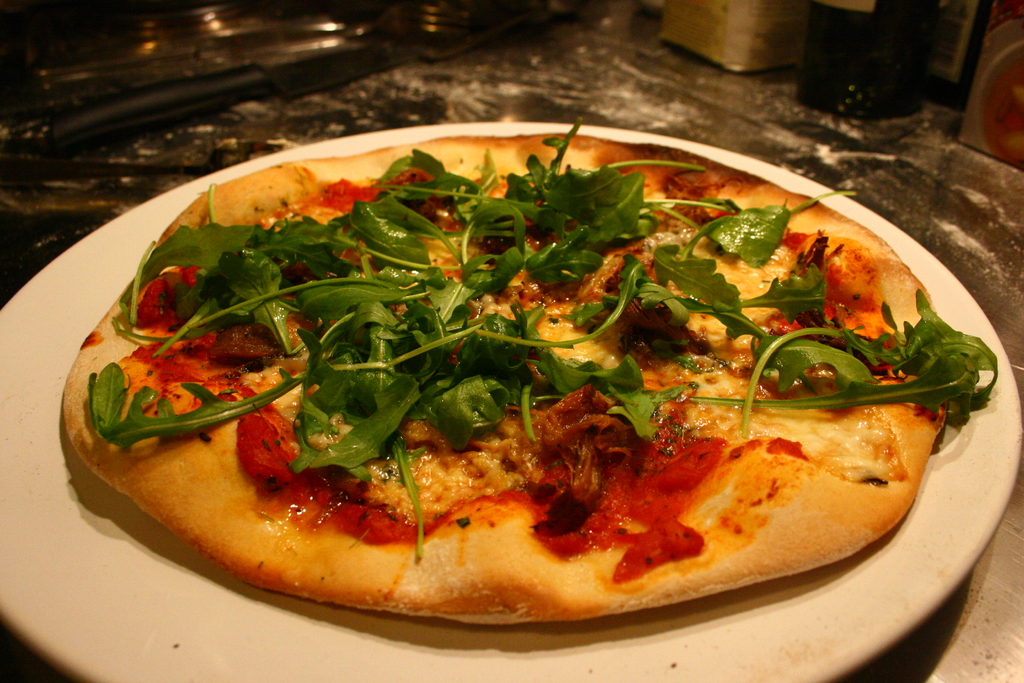Pizza: (72, 124, 999, 625)
